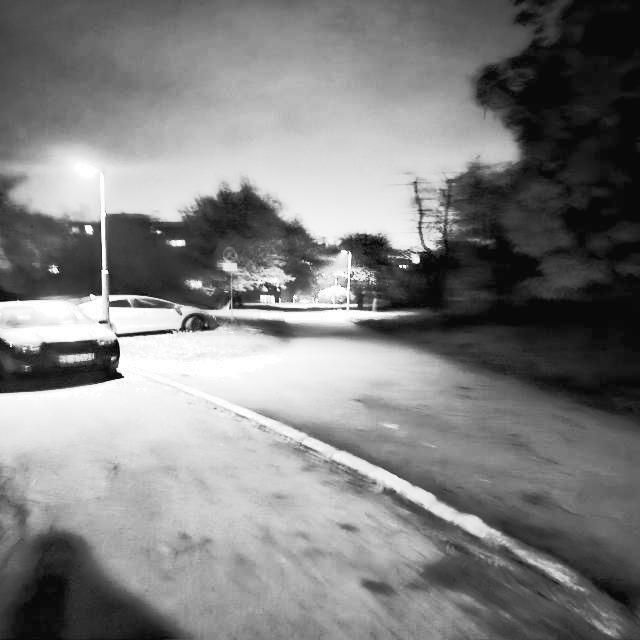Light: (73, 160, 115, 331), (334, 240, 361, 319)
